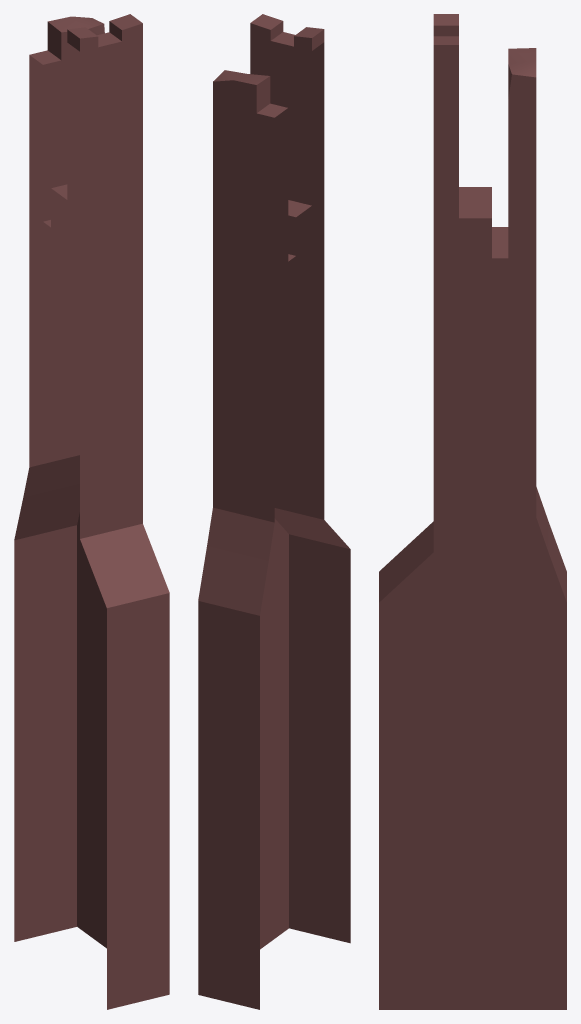
File: Columna_Pared_01.fbx
3 views of the same model, side by side, from view 1: azimuth 30°, elevation 25°; view 2: azimuth 150°, elevation 25°; view 3: azimuth 270°, elevation 25° (orthographic). The views are drawn at different scales.
Visible parts, largest first — view 1: pasted__pPlane1; view 2: pasted__pPlane1; view 3: pasted__pPlane1.
Part boxes in pixels (x1,y1,x2,y2): pasted__pPlane1: (14,14,169,1009); pasted__pPlane1: (198,14,350,1009); pasted__pPlane1: (379,14,566,1009).
Bounding box in the file's own units: 1.58 × 22.77 × 4.02.
